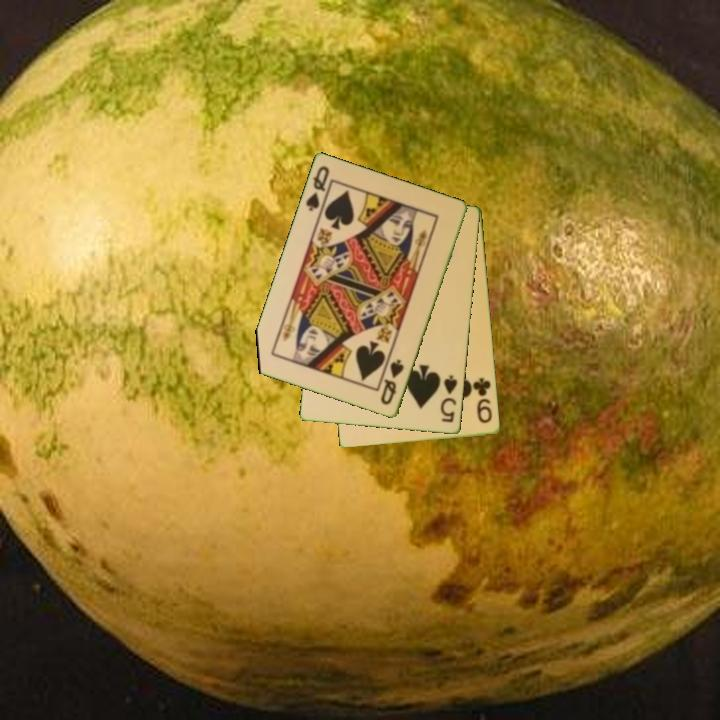5s: (437, 372, 460, 426)
9c: (470, 374, 495, 426)
Qs: (377, 356, 407, 408), (302, 163, 332, 214)
